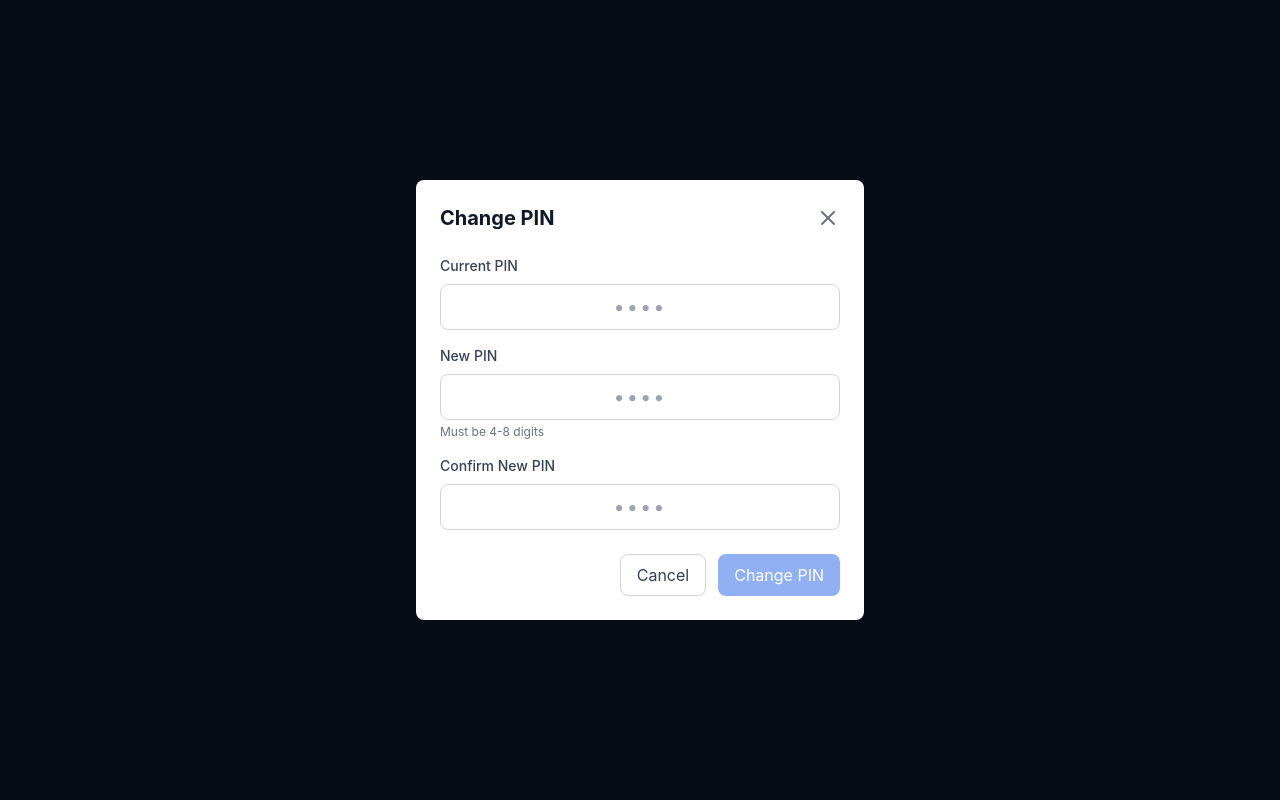
it: PinChangeModal › should show error when new PIN is same as current
Type "1234" into the password field with placeholder "••••" below "Current PIN" at (640, 307), box [440, 284, 840, 330]
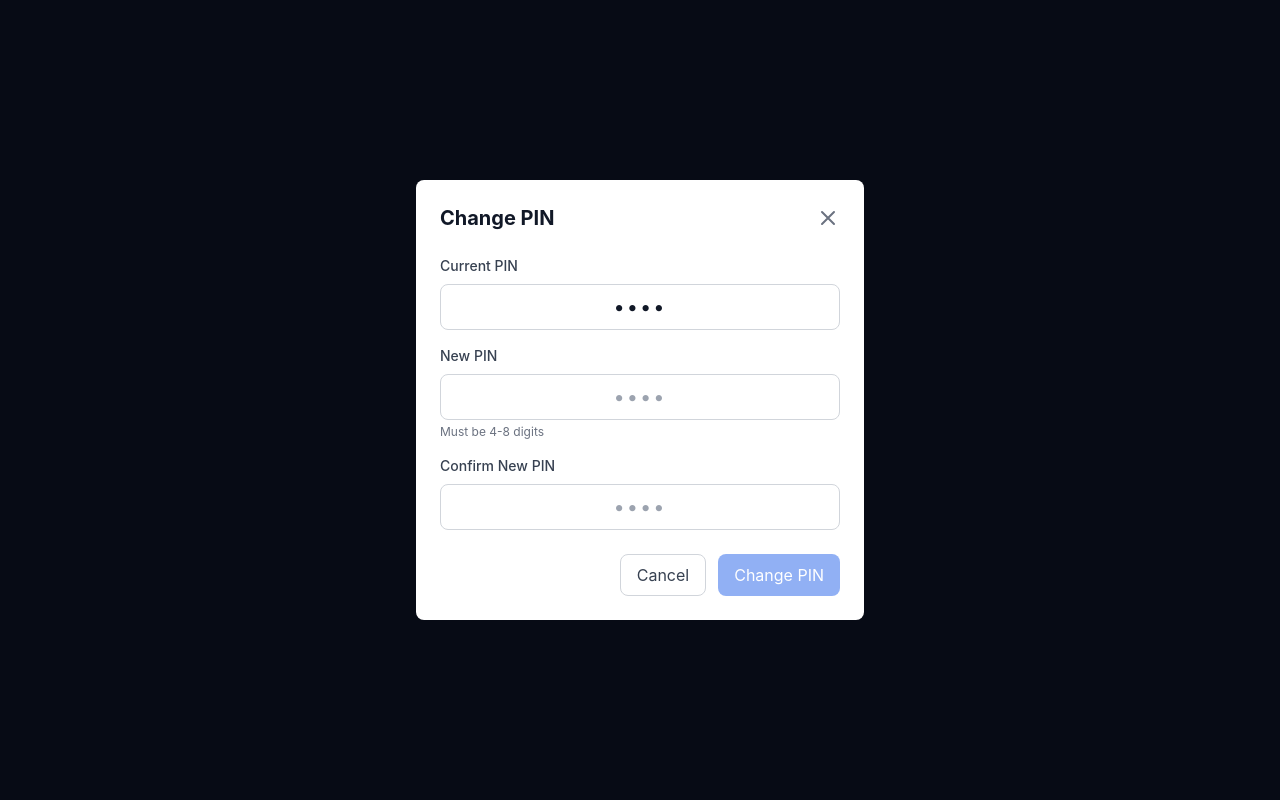
Type "1234" into the 1st password field with placeholder "••••" at (640, 397), box [440, 374, 840, 420]
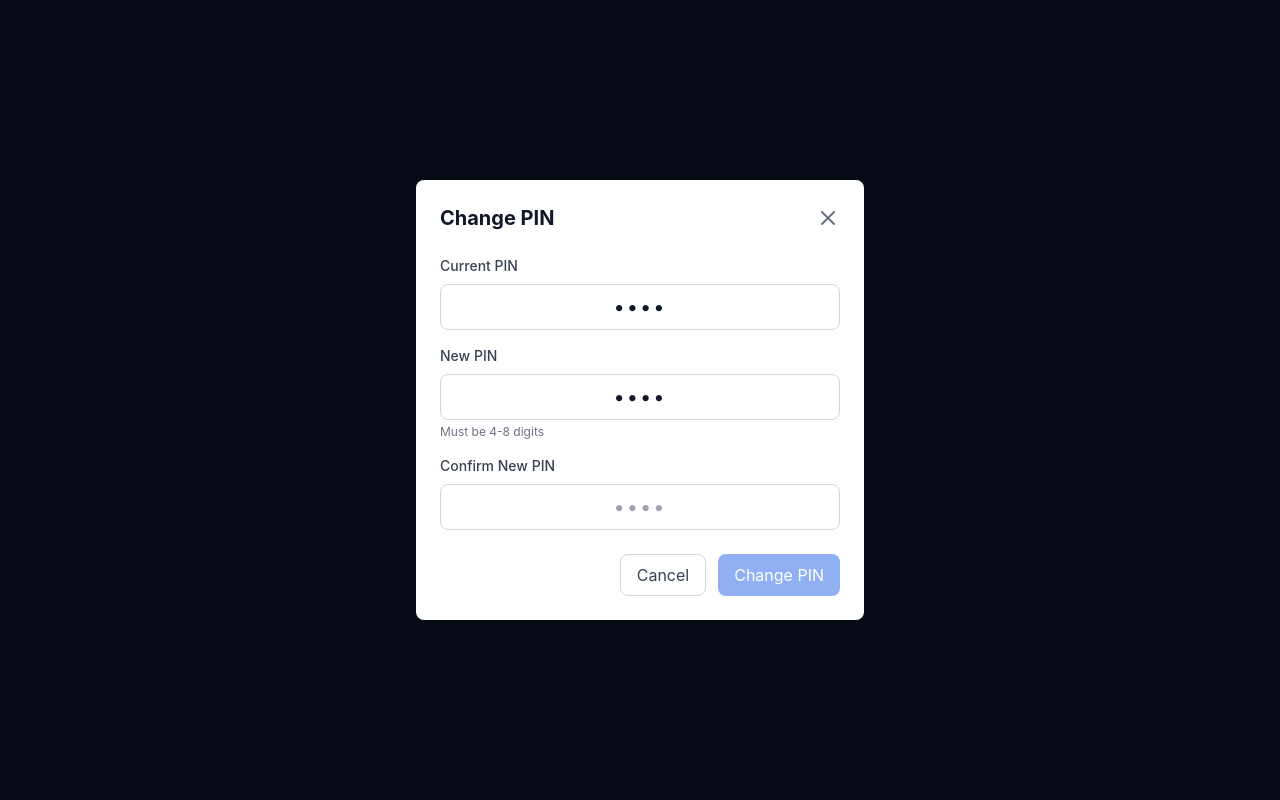
Type "1234" into the password field with placeholder "••••" at (640, 507), box [440, 484, 840, 530]
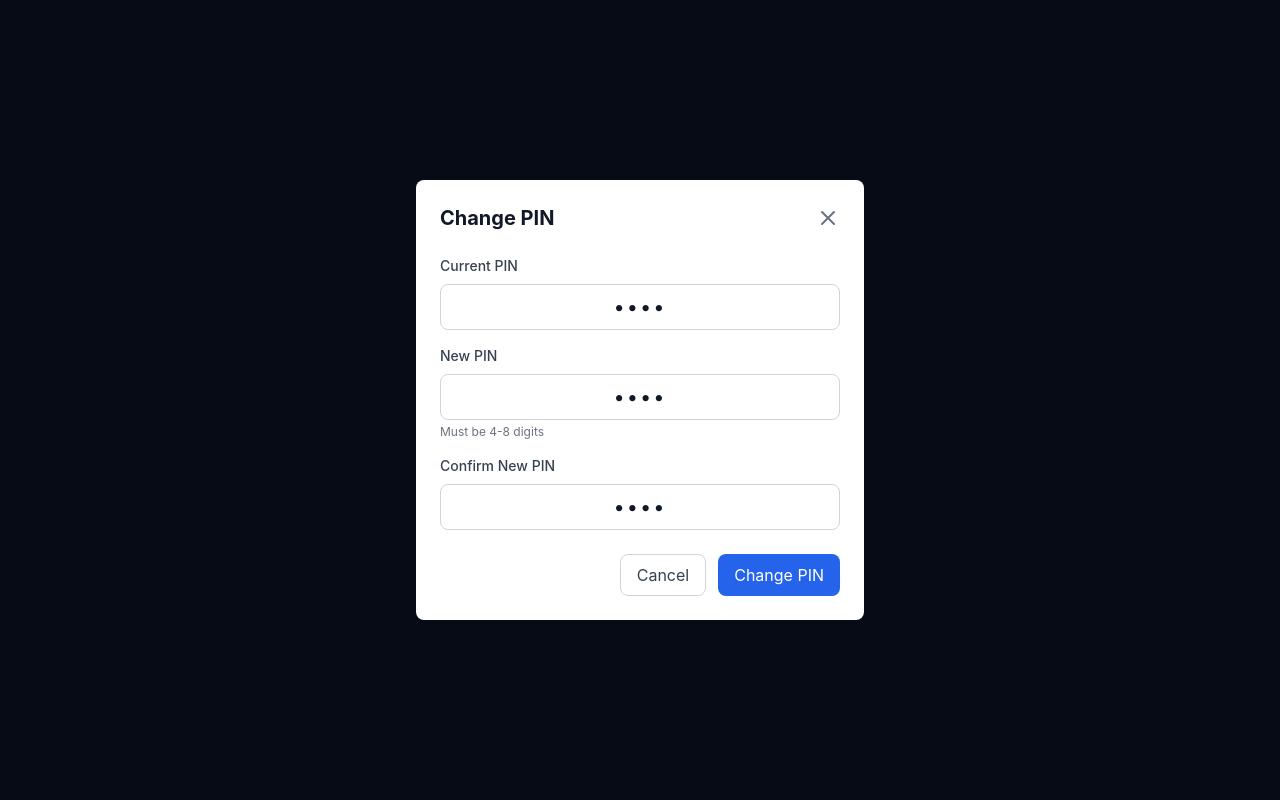
Click the button "Change PIN" at (779, 575), box [718, 554, 840, 596]
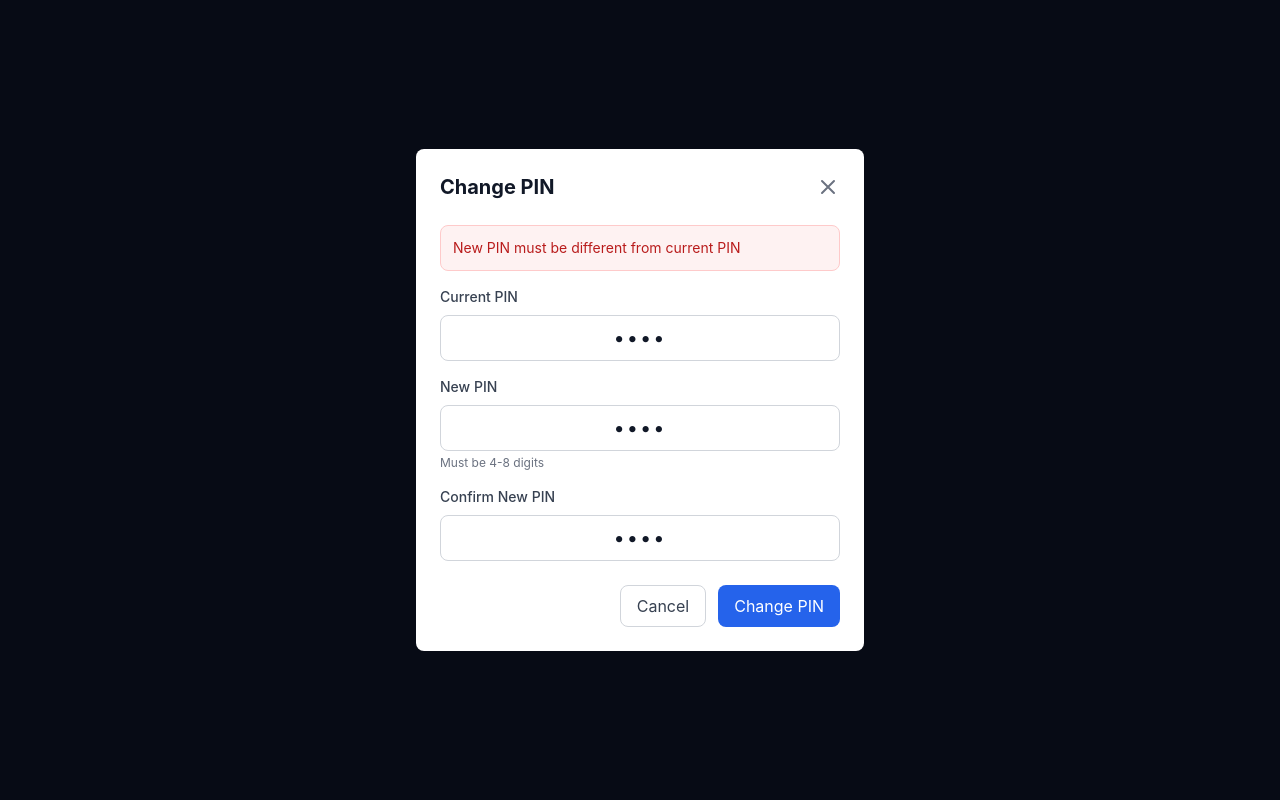
Expected: the text "New PIN must be different from current PIN" is shown, [440, 225, 840, 271]
